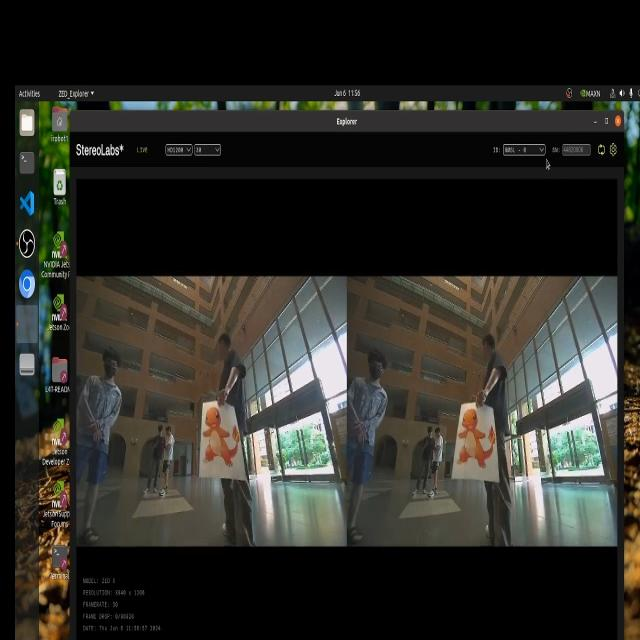red: (196, 393, 256, 480), (450, 407, 504, 477)
